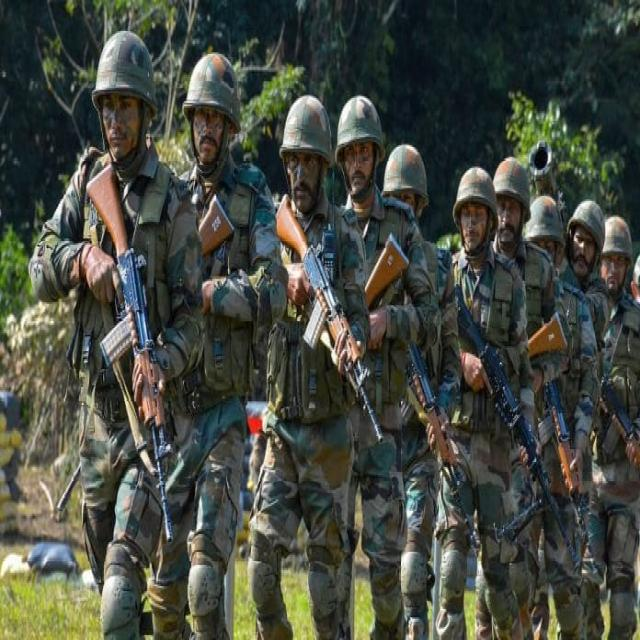Militant: (55, 25, 178, 640), (258, 67, 370, 640), (322, 76, 435, 640), (161, 41, 265, 640), (486, 130, 594, 640), (370, 102, 468, 640), (444, 148, 547, 640), (564, 181, 639, 640)
